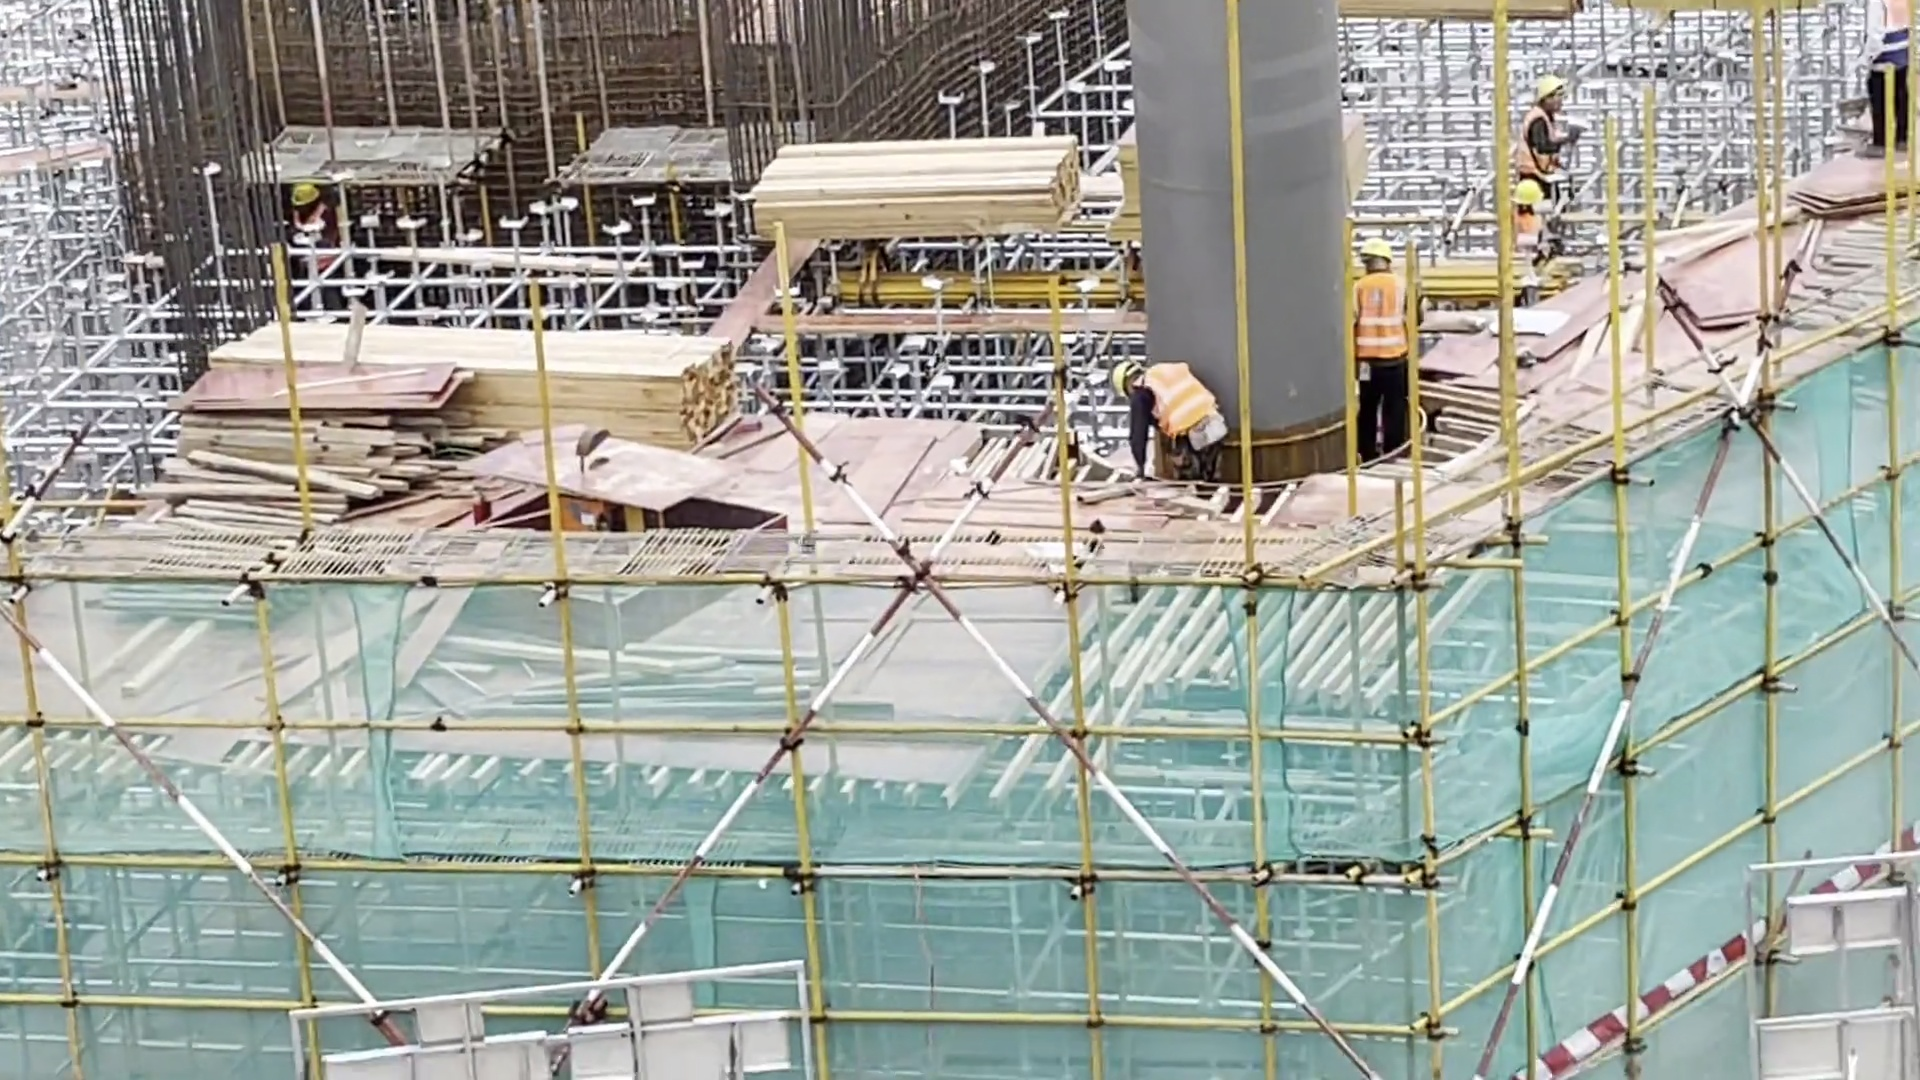helmet: (1107, 354, 1145, 404), (1360, 227, 1397, 271), (1509, 174, 1547, 211), (288, 182, 321, 211), (1538, 75, 1564, 107)
person: (1110, 343, 1243, 509), (1351, 227, 1420, 459), (281, 174, 374, 270), (1867, 1, 1910, 158), (1520, 64, 1573, 187), (1523, 178, 1566, 256)
vest: (1353, 259, 1420, 373), (1146, 365, 1221, 449), (1513, 104, 1570, 179), (1872, 1, 1915, 71)
